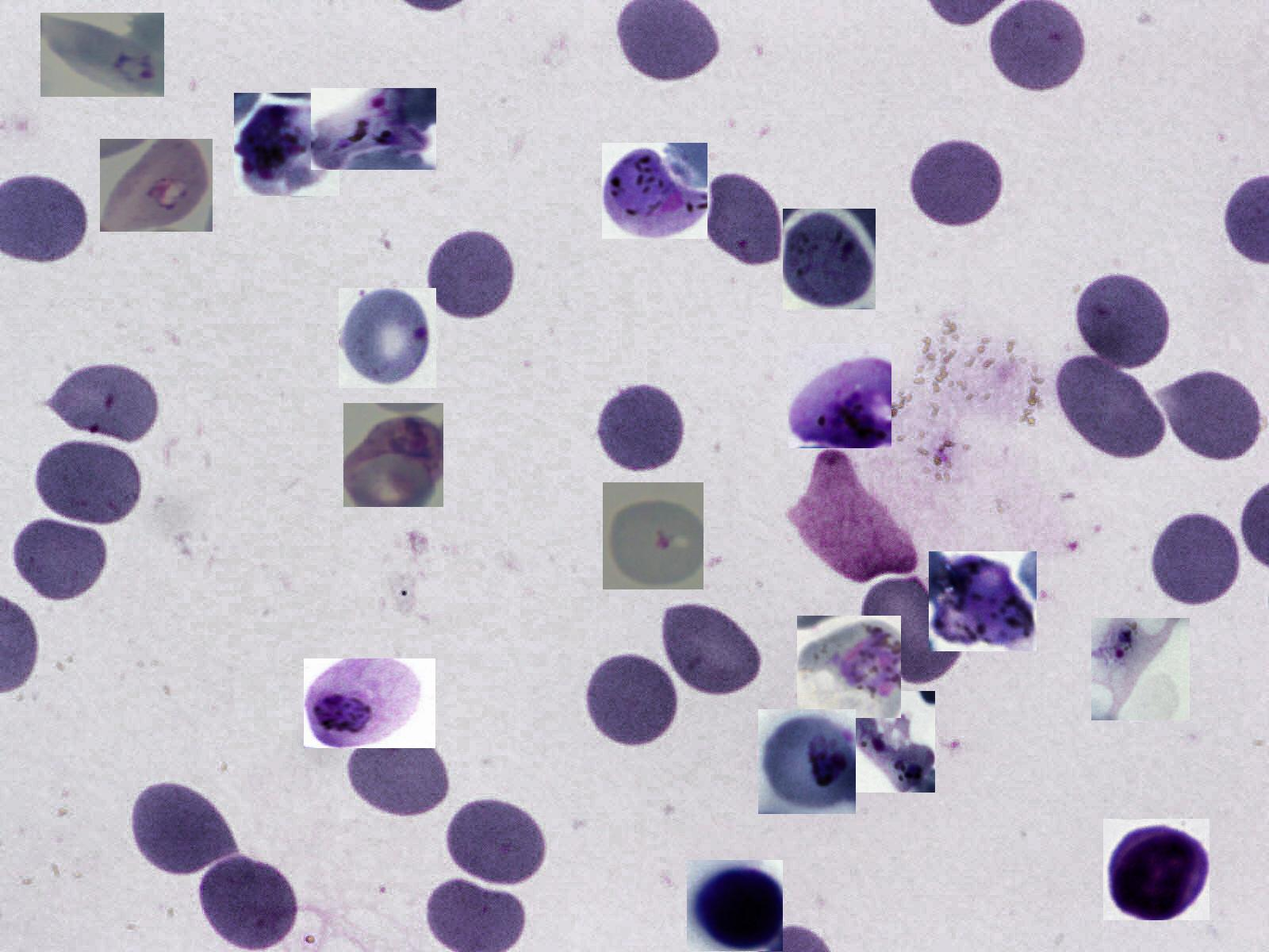Infected: (304, 658, 435, 748), (234, 93, 339, 196), (1103, 819, 1210, 920), (929, 551, 1037, 651), (788, 344, 891, 448), (604, 482, 704, 589), (797, 616, 901, 718), (100, 139, 213, 232), (40, 13, 164, 97), (343, 403, 443, 507), (758, 709, 856, 814), (311, 88, 436, 170), (1091, 618, 1190, 720), (602, 143, 707, 239), (339, 288, 436, 388), (842, 691, 935, 793), (783, 209, 876, 310), (687, 860, 783, 951)
Uninfected: (859, 573, 971, 687), (131, 776, 240, 882), (1058, 359, 1172, 460), (26, 436, 145, 528), (440, 791, 550, 889), (1072, 269, 1172, 373), (1161, 365, 1266, 464), (660, 600, 766, 697), (196, 853, 302, 949), (584, 649, 682, 750), (52, 364, 170, 447), (343, 730, 451, 820), (1148, 508, 1243, 609), (907, 134, 1006, 230), (424, 224, 519, 324), (700, 167, 789, 272), (594, 377, 687, 476), (10, 515, 111, 605)
